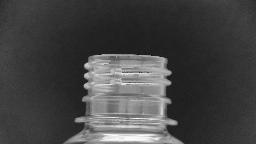No Cap: (68, 50, 182, 128)
